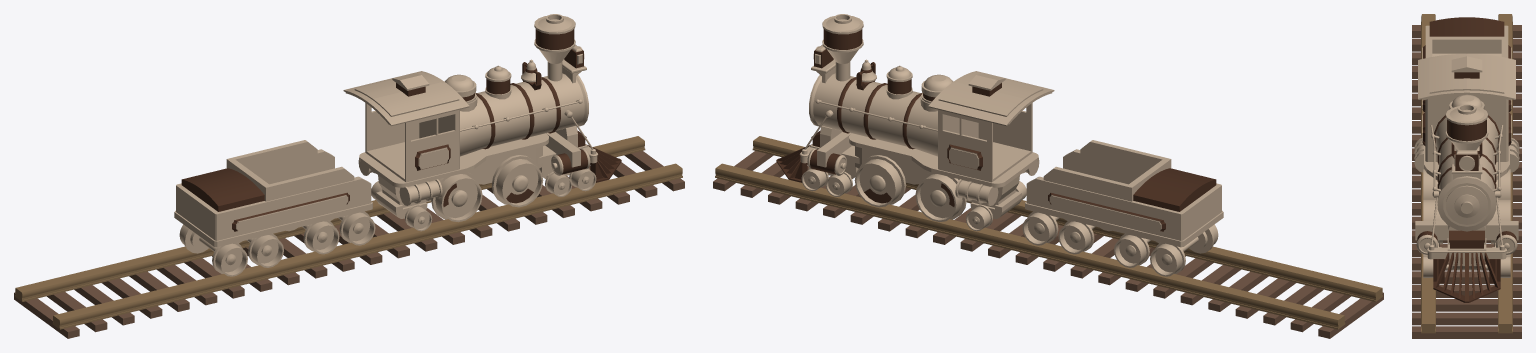
File: Challenge_002_WoodenToy.obj
3 views of the same model, side by side, from view 1: azimuth 30°, elevation 25°; view 2: azimuth 150°, elevation 25°; view 3: azimuth 270°, elevation 25° (orthographic).
Parts seen in each view (by area): view 1: Mesh76 railing1 Model, Mesh35 Train_half1 Model, Mesh67 compartment_base1 Model, Mesh1 Group1 Model, Mesh77 railing2 Model, Mesh73 compartment_base2 Model, Mesh60 train_top1 Model, Mesh59 Train_half2 Model, Mesh3 Group2 Model, Mesh18 wheel2 Train_half1 Model, Mesh4 Group3 Model, Mesh17 wheel1 Train_half1 Model (+23 smaller); view 2: Mesh77 railing2 Model, Mesh59 Train_half2 Model, Mesh73 compartment_base2 Model, Mesh1 Group1 Model, Mesh76 railing1 Model, Mesh67 compartment_base1 Model, Mesh61 train_top2 Model, Mesh35 Train_half1 Model, Mesh3 Group2 Model, Mesh42 wheel4 Train_half2 Model, Mesh4 Group3 Model, Mesh41 wheel3 Train_half2 Model (+23 smaller); view 3: Mesh1 Group1 Model, Mesh35 Train_half1 Model, Mesh59 Train_half2 Model, Mesh60 train_top1 Model, Mesh61 train_top2 Model, Mesh4 Group3 Model, Mesh3 Group2 Model, Mesh76 railing1 Model, Mesh77 railing2 Model, Mesh78 rail_support_beam1 Model, Mesh79 rail_support_beam2 Model, Mesh80 rail_support_beam3 Model (+54 smaller).
Boxes of the visible parts, <box> form: Mesh76 railing1 Model: <box>52,163,682,329</box>; Mesh35 Train_half1 Model: <box>376,109,598,218</box>; Mesh67 compartment_base1 Model: <box>194,166,372,247</box>; Mesh1 Group1 Model: <box>460,73,588,156</box>; Mesh77 railing2 Model: <box>15,136,645,301</box>; Mesh73 compartment_base2 Model: <box>174,140,334,231</box>; Mesh60 train_top1 Model: <box>367,75,469,126</box>; Mesh59 Train_half2 Model: <box>359,103,557,209</box>; Mesh3 Group2 Model: <box>181,168,264,211</box>; Mesh18 wheel2 Train_half1 Model: <box>491,155,543,207</box>; Mesh4 Group3 Model: <box>534,14,575,81</box>; Mesh17 wheel1 Train_half1 Model: <box>431,172,482,222</box>; Mesh77 railing2 Model: <box>715,163,1345,329</box>; Mesh59 Train_half2 Model: <box>799,109,1021,218</box>; Mesh73 compartment_base2 Model: <box>1025,166,1203,247</box>; Mesh1 Group1 Model: <box>809,73,937,156</box>; Mesh76 railing1 Model: <box>752,136,1382,301</box>; Mesh67 compartment_base1 Model: <box>1063,140,1223,231</box>; Mesh61 train_top2 Model: <box>928,75,1030,126</box>; Mesh35 Train_half1 Model: <box>840,103,1038,209</box>; Mesh3 Group2 Model: <box>1133,168,1216,211</box>; Mesh42 wheel4 Train_half2 Model: <box>854,155,906,207</box>; Mesh4 Group3 Model: <box>822,14,863,81</box>; Mesh41 wheel3 Train_half2 Model: <box>915,172,966,222</box>; Mesh1 Group1 Model: <box>1434,115,1499,231</box>; Mesh35 Train_half1 Model: <box>1415,95,1466,270</box>; Mesh59 Train_half2 Model: <box>1467,95,1518,270</box>; Mesh60 train_top1 Model: <box>1418,53,1466,100</box>; Mesh61 train_top2 Model: <box>1467,53,1515,100</box>; Mesh4 Group3 Model: <box>1445,104,1488,150</box>; Mesh3 Group2 Model: <box>1429,17,1504,36</box>; Mesh76 railing1 Model: <box>1421,14,1435,333</box>; Mesh77 railing2 Model: <box>1498,14,1512,333</box>; Mesh78 rail_support_beam1 Model: <box>1412,326,1521,338</box>; Mesh79 rail_support_beam2 Model: <box>1412,312,1521,325</box>; Mesh80 rail_support_beam3 Model: <box>1412,299,1521,311</box>.
Bounding box in the file's own units: 1132 × 306 × 170.
